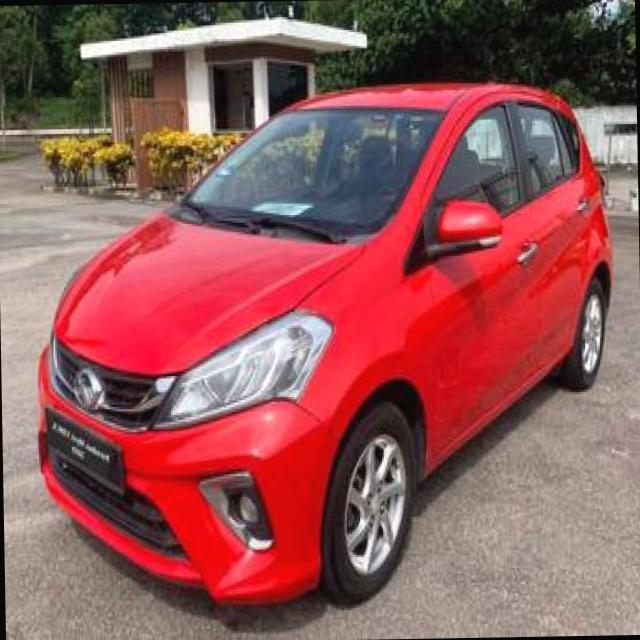PeroduaMyvi: (30, 73, 620, 613)
